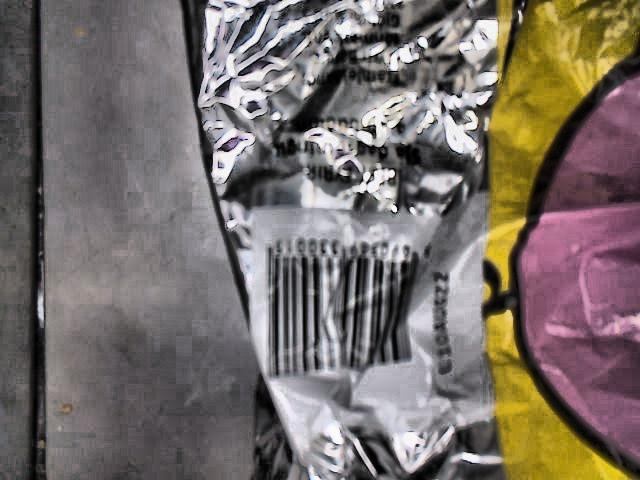Plastic: (180, 0, 640, 480)
